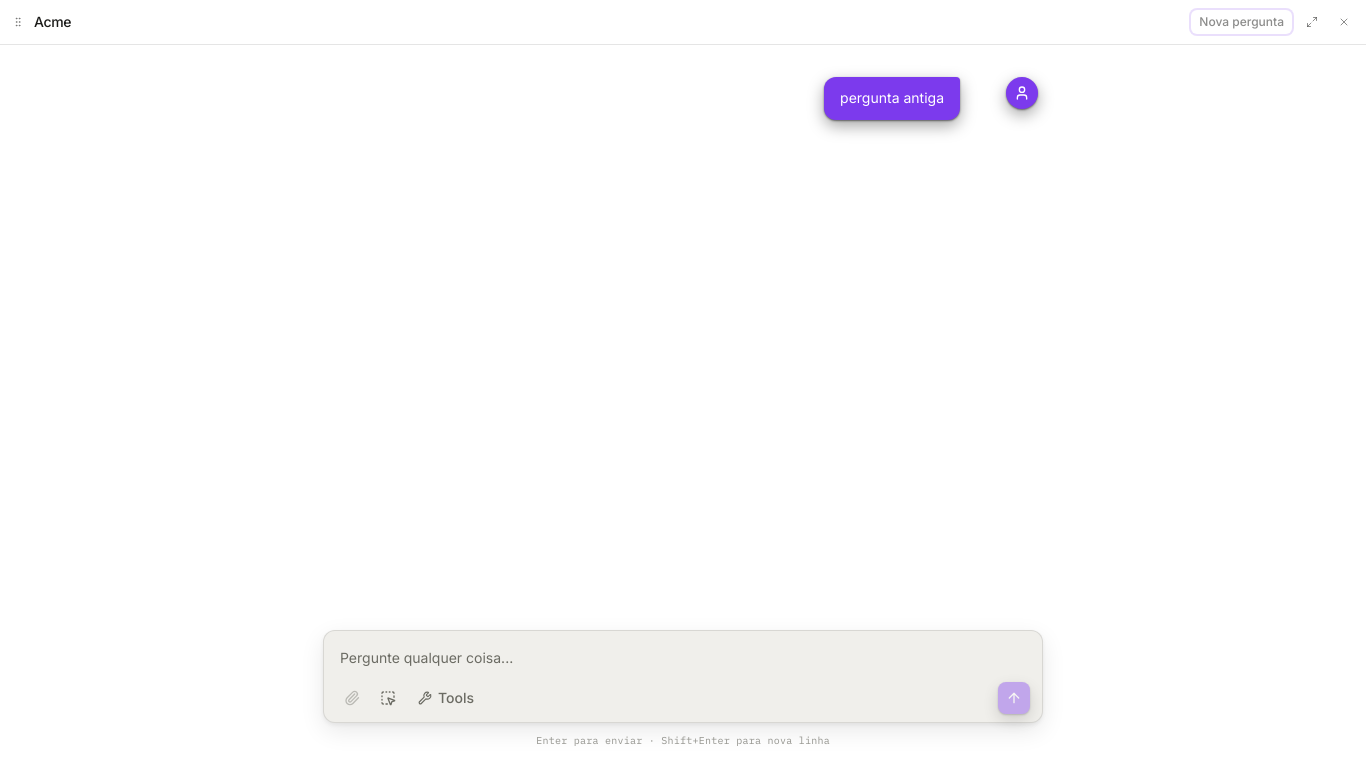
IslandPanel › T5.3 próximo send após Nova pergunta cria conversa de novo
Expected: the text "pergunta antiga" is shown, [824,77,960,120]
Click the button "Nova pergunta": coordinates (1242, 22) [1191,10,1292,34]
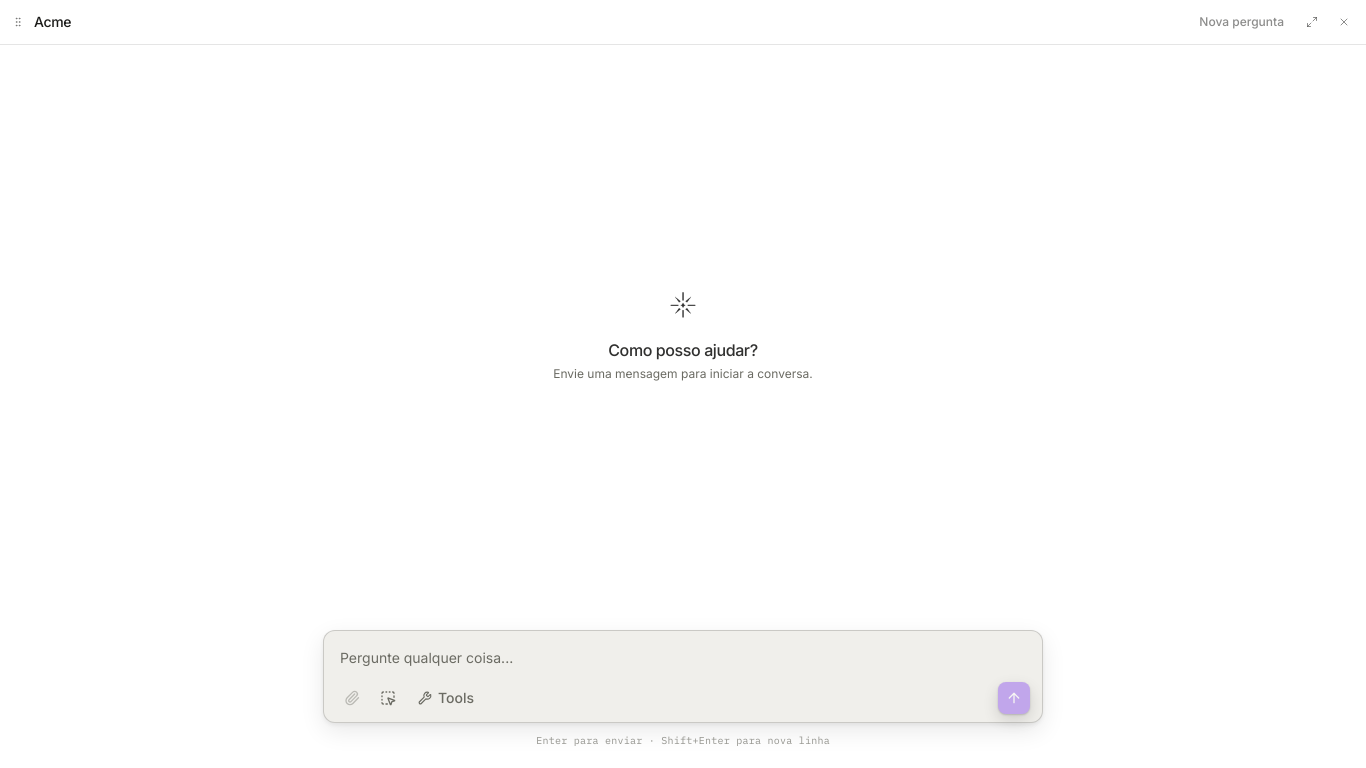
In the text box with placeholder "Pergunte qualquer coisa...": coordinates (683, 659) [332,639,1034,678], type "oi de novo"
Then press Enter
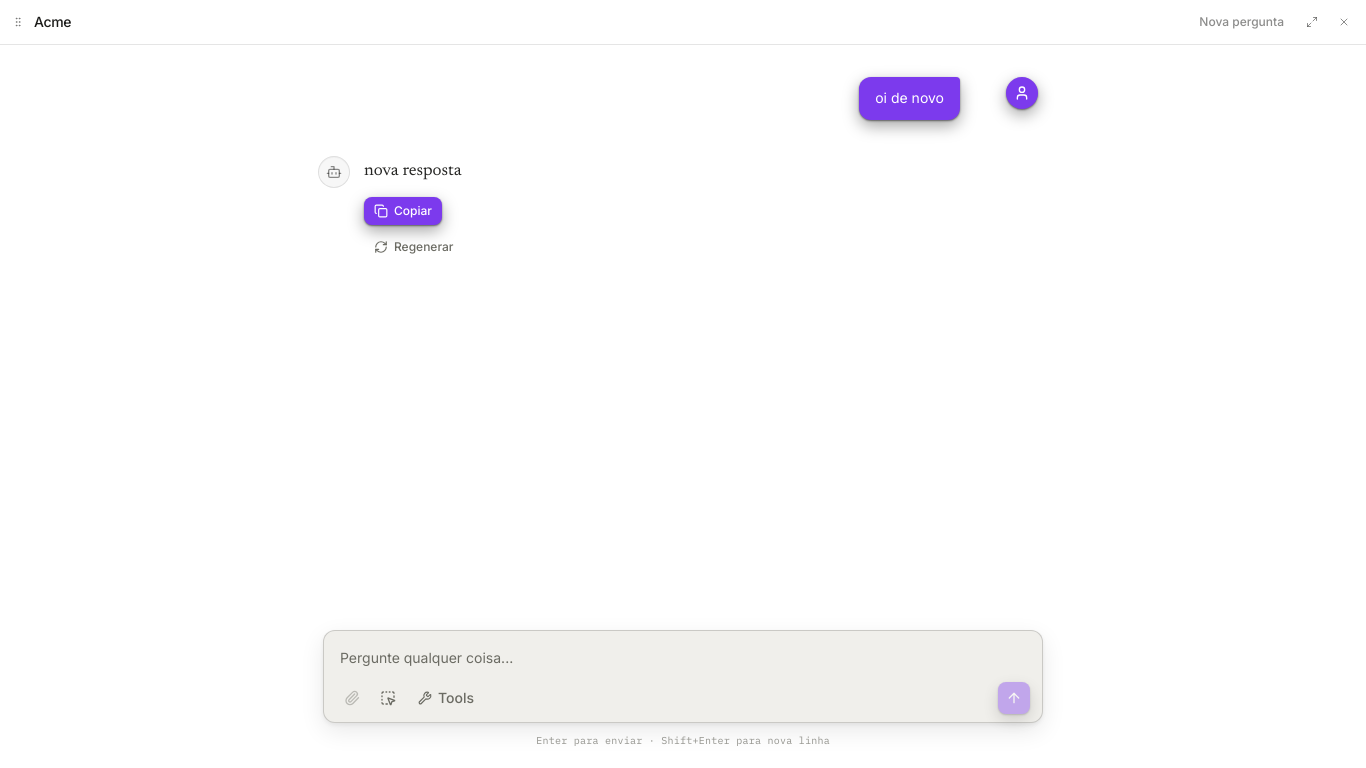
Now the text "nova resposta" is shown, box [364,163,461,180]
